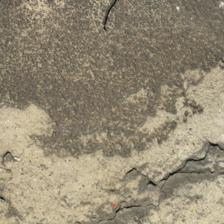Crack: (65, 24, 159, 136), (69, 51, 117, 76)
